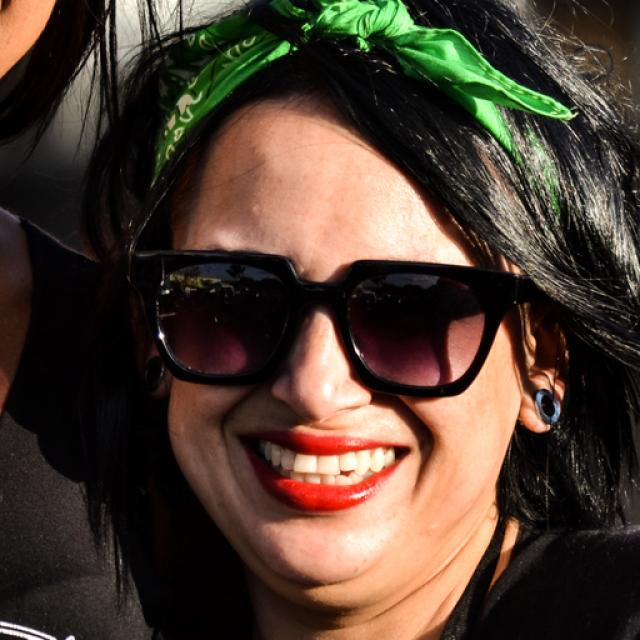Acne: (238, 194, 269, 235)
